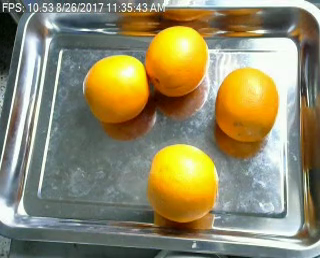Orange: (148, 143, 219, 221), (215, 66, 279, 142), (146, 25, 208, 97), (82, 53, 148, 120)
